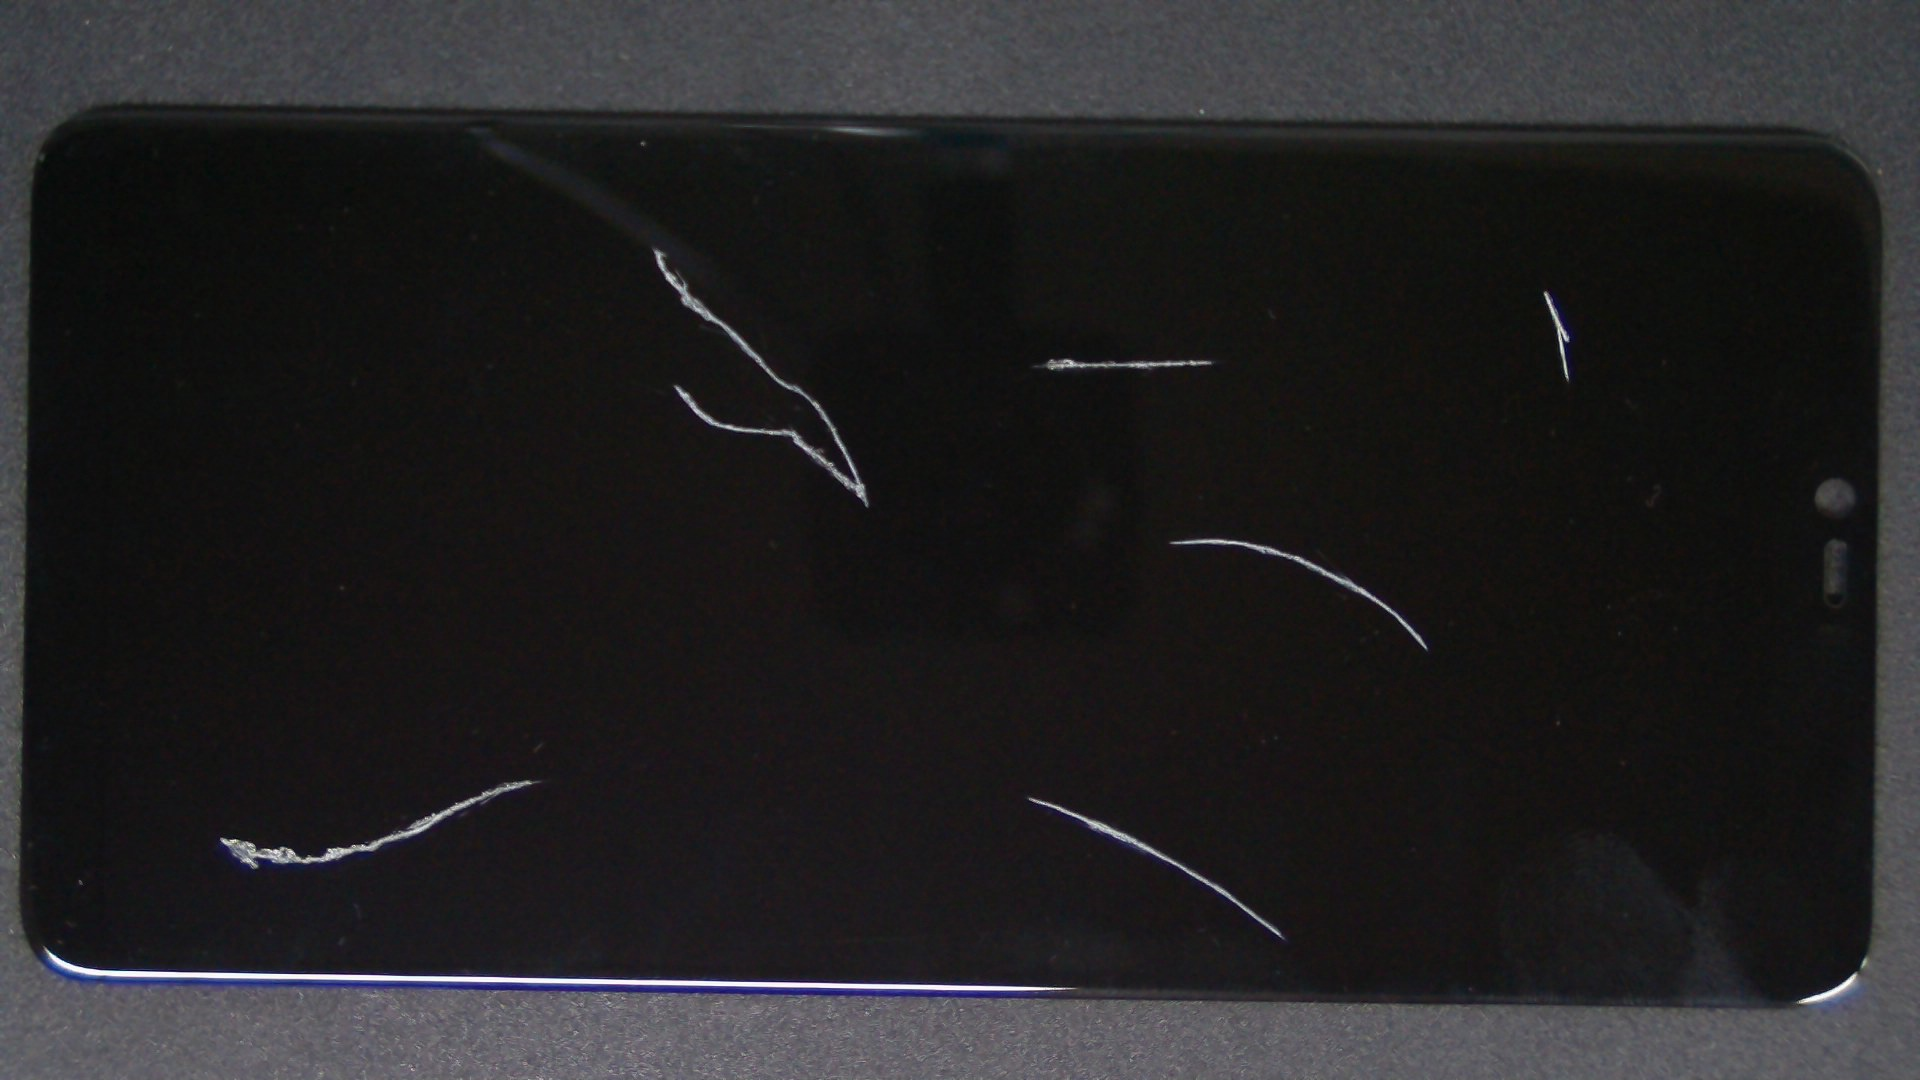oil: (514, 397, 1542, 1080), (600, 268, 1800, 806), (527, 178, 1578, 535), (264, 389, 789, 1080), (774, 144, 1920, 434), (326, 123, 977, 371)
